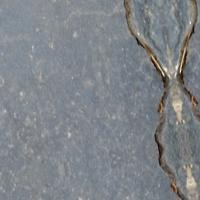crack: (120, 0, 199, 199)
